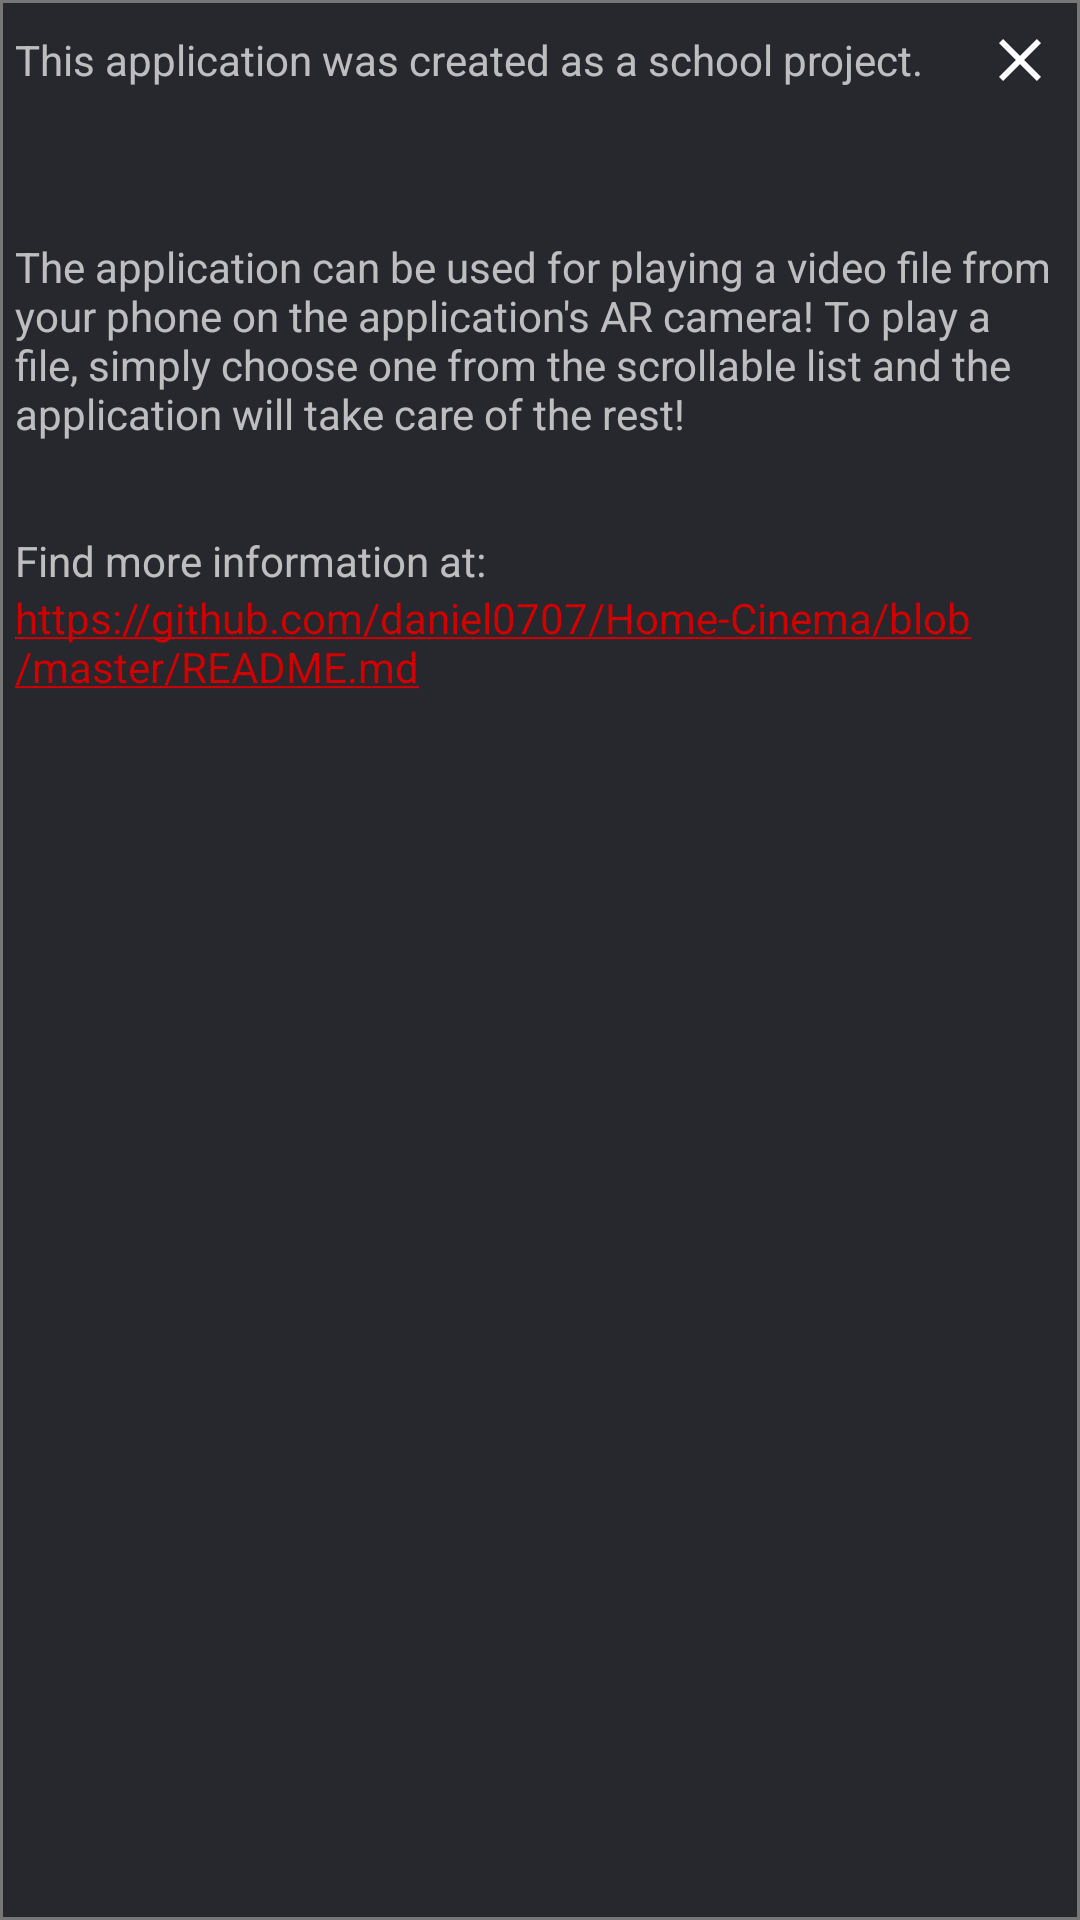

Screen size 1080 x 1920. Icon name, then its center in pixels as (x,y):
Exit view: (1020,60)
